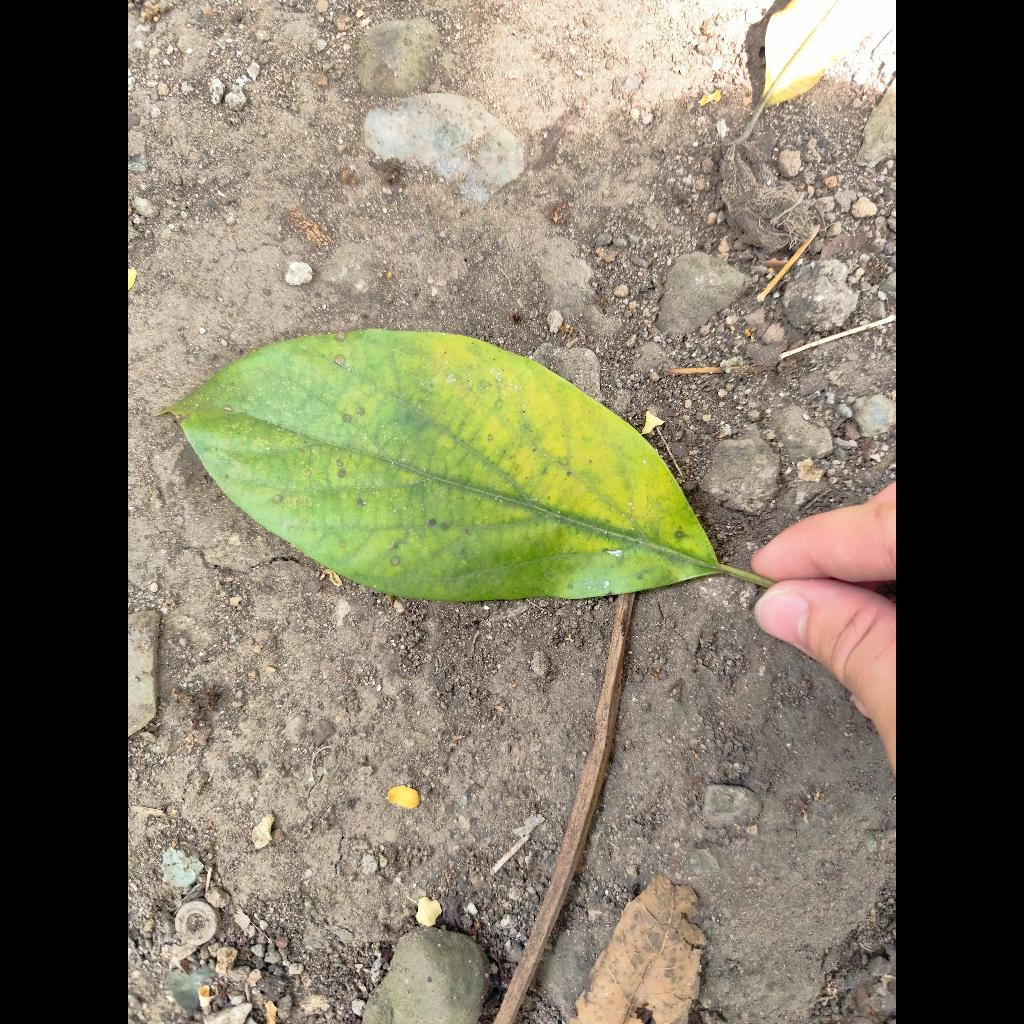deficiencia_nutricional: (166, 330, 730, 601)
